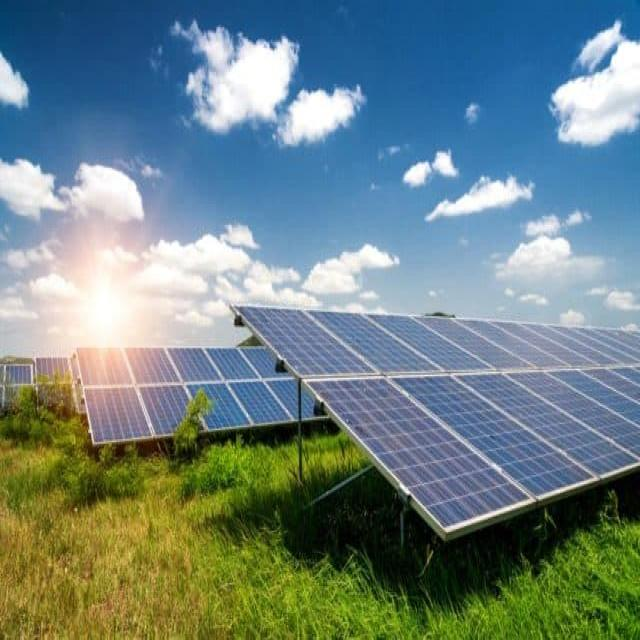clean-solar-panel: (234, 305, 640, 538), (78, 347, 296, 444)
